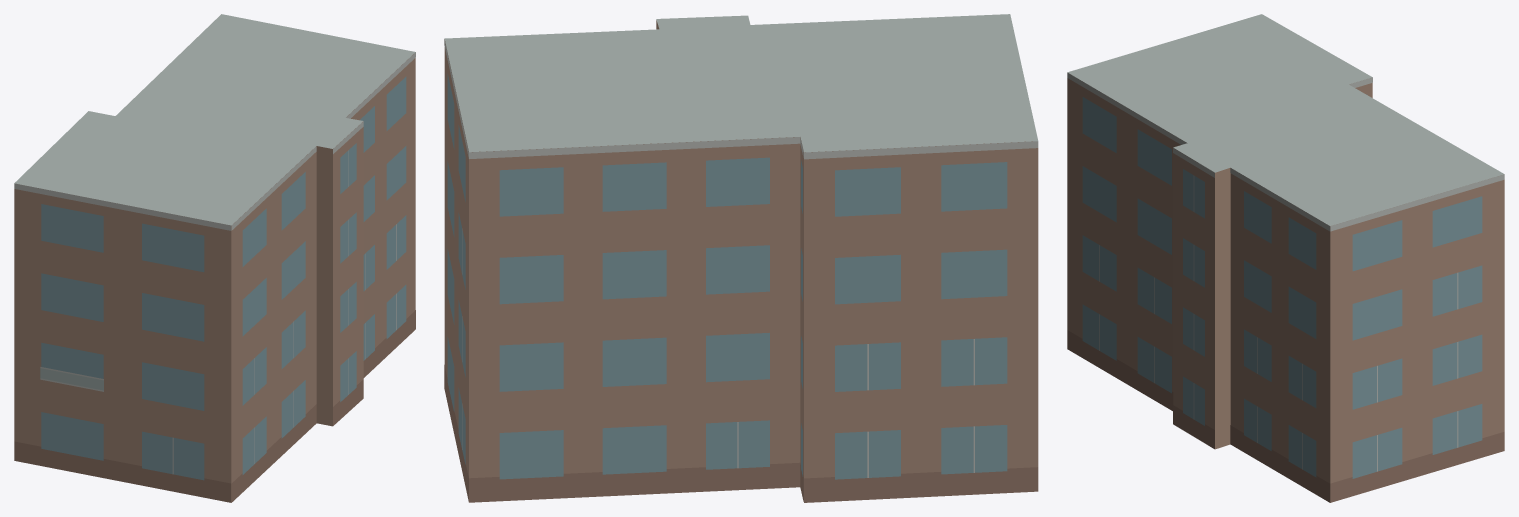
File: survey-upis-32991438.glb
The picture shows the model from 3 angles, left to right: view 1: azimuth 30°, elevation 25°; view 2: azimuth 150°, elevation 25°; view 3: azimuth 270°, elevation 25°; orthographic projection. The views are drawn at different scales.
Parts seen in each view (by area): view 1: survey-upis-32991438.tmp; view 2: survey-upis-32991438.tmp; view 3: survey-upis-32991438.tmp.
Boxes of the visible parts, bbox=[...] form: survey-upis-32991438.tmp: bbox=[14, 14, 415, 502]; survey-upis-32991438.tmp: bbox=[444, 14, 1038, 502]; survey-upis-32991438.tmp: bbox=[1067, 14, 1504, 502].
Bounding box in the file's own units: 20.31 × 12.35 × 17.7.
